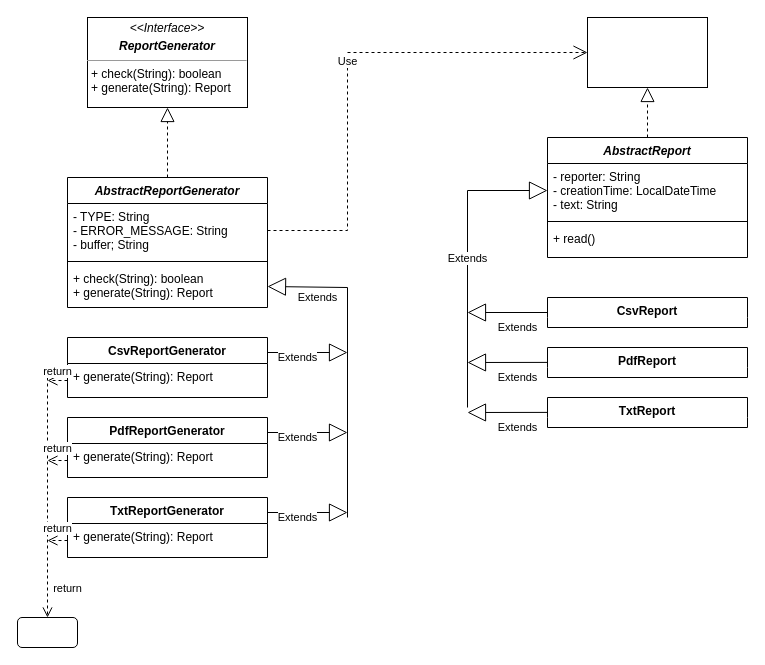
The diagram is 765 pixels wide and 665 high, and some of its shapes have lost their labels. Here are the shapes that lost their labels. From the top down, the centre of each, then its label:
At [647,52]: "<<Interface>> Report + read()".
At [47,632]: "Product".
